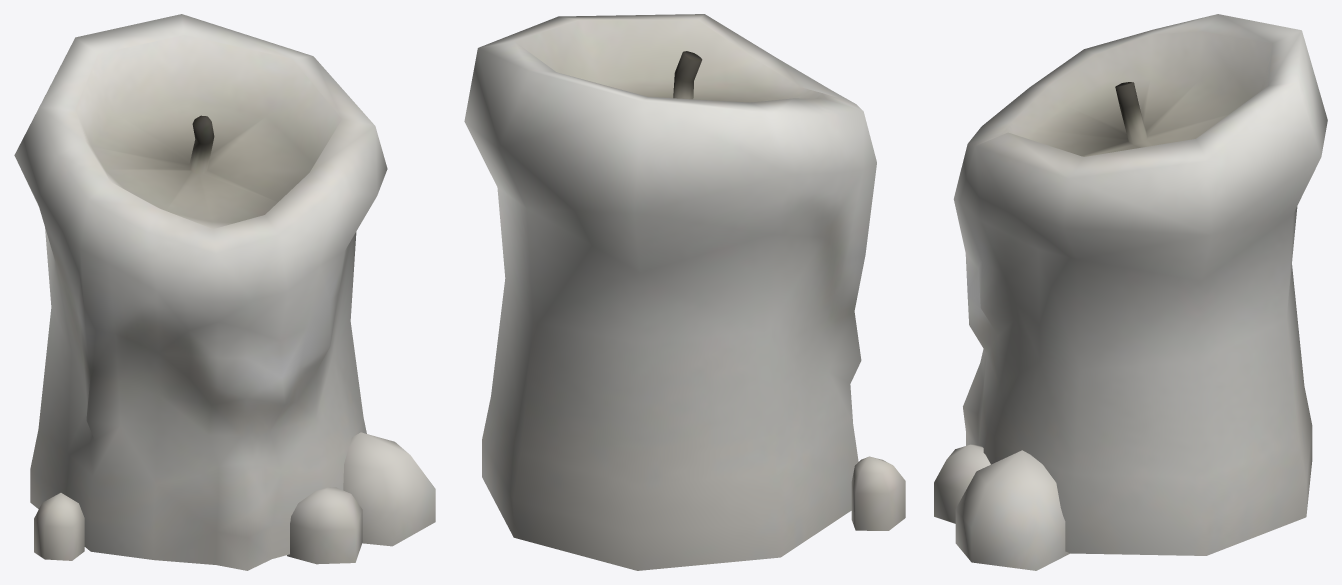
Rendered from candle2.fbx.
The picture shows the model from 3 angles, left to right: view 1: azimuth 30°, elevation 25°; view 2: azimuth 150°, elevation 25°; view 3: azimuth 270°, elevation 25°; orthographic projection. The views are drawn at different scales.
Parts seen in each view (by area): view 1: candle_002; view 2: candle_002; view 3: candle_002.
Boxes of the visible parts, x1=… form: candle_002: x1=14, y1=14, x2=435, y2=570; candle_002: x1=464, y1=14, x2=905, y2=570; candle_002: x1=934, y1=14, x2=1327, y2=570.
Size of the model in its own units: 10.86 by 12.68 by 10.34.
